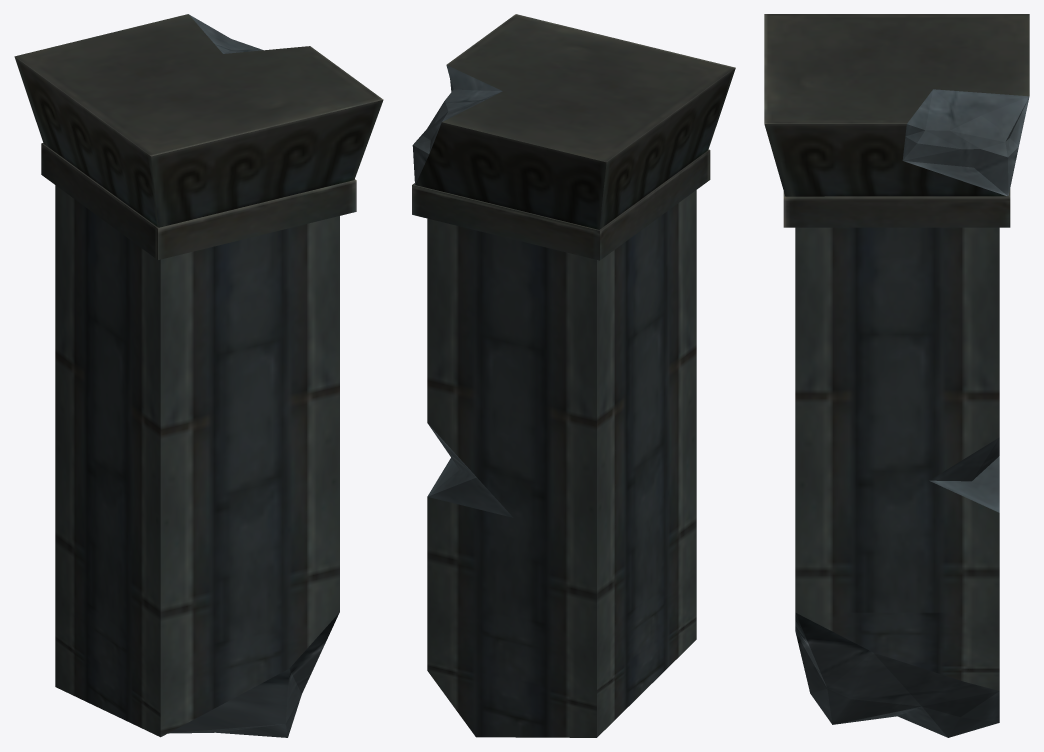
The model's file is changjing_mfxy_zhuz_posuii_b.FBX.
3 renders of one model, left to right at view 1: azimuth 30°, elevation 25°; view 2: azimuth 150°, elevation 25°; view 3: azimuth 270°, elevation 25°, orthographic. The views are drawn at different scales.
Parts seen in each view (by area): view 1: changjing_mfxy_zhuz_posuii_b; view 2: changjing_mfxy_zhuz_posuii_b; view 3: changjing_mfxy_zhuz_posuii_b.
Boxes of the visible parts, x1,y1,x2,y2 form: changjing_mfxy_zhuz_posuii_b: [14, 14, 383, 737]; changjing_mfxy_zhuz_posuii_b: [412, 14, 735, 737]; changjing_mfxy_zhuz_posuii_b: [764, 14, 1029, 737].
Size of the model in its own units: 189 by 193 by 517.
